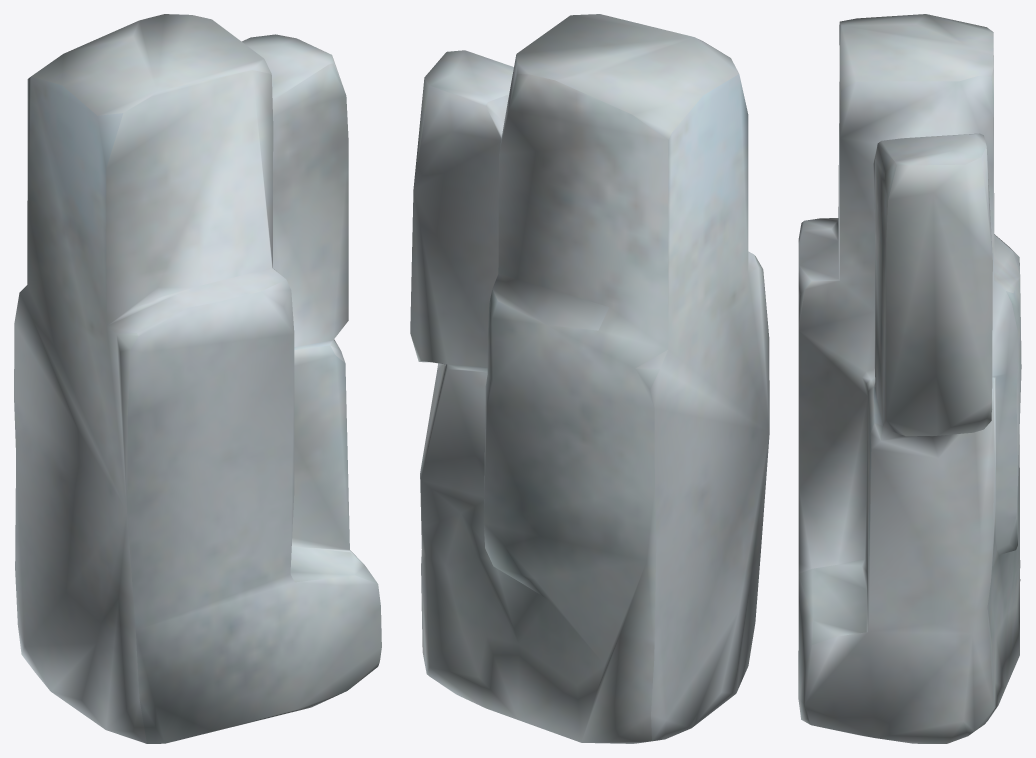
File: P_CubicCliffPiece17.obj
3 views of the same model, side by side, from view 1: azimuth 30°, elevation 25°; view 2: azimuth 150°, elevation 25°; view 3: azimuth 270°, elevation 25° (orthographic). The views are drawn at different scales.
Size of the model in its own units: 19.68 by 44.68 by 14.57.
